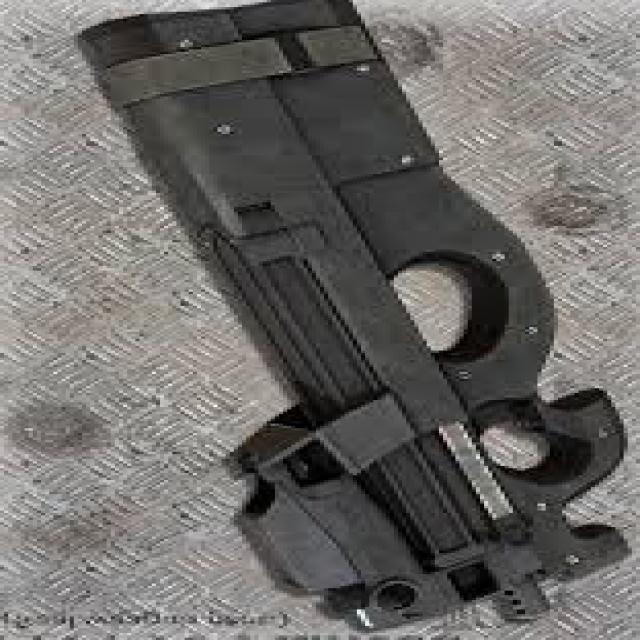Gun: (82, 0, 640, 640)
